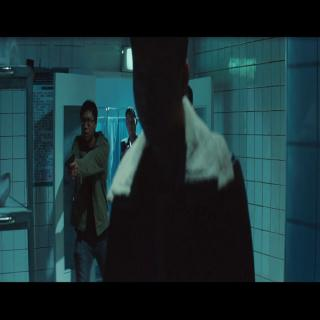gun: (63, 154, 77, 179)
